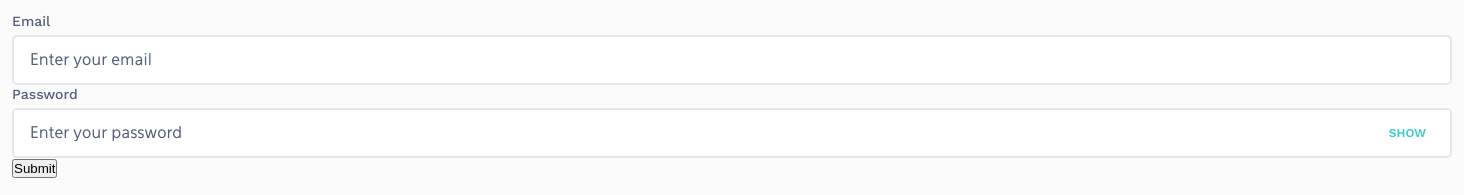
it: FormInput › toggles password visibility when toggle button is clicked
// Click to show
Step 1. Click the button "SHOW" → point(1407, 133), box [1381,122,1434,144]
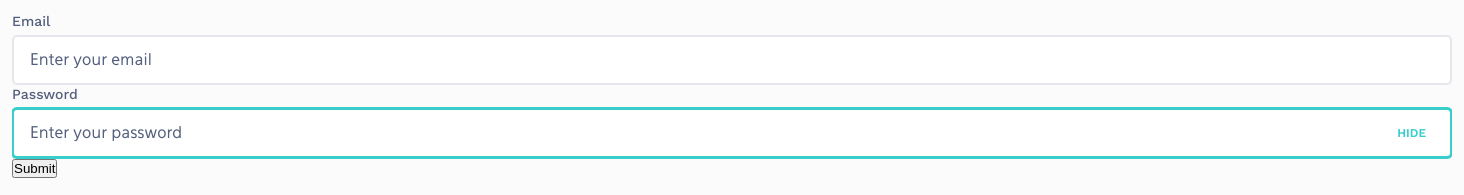
expect the button "SHOW" reads "HIDE": met
// Click to hide again
Step 2. Click the button "SHOW" → point(1412, 133), box [1389,122,1434,144]
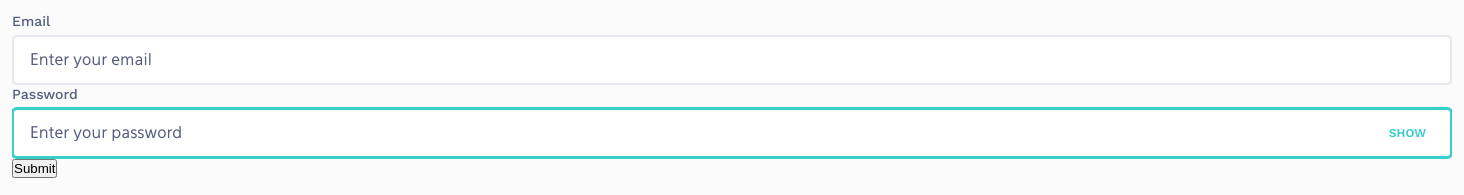
expect the button "SHOW" is shown: met, box [1381,122,1434,144]
